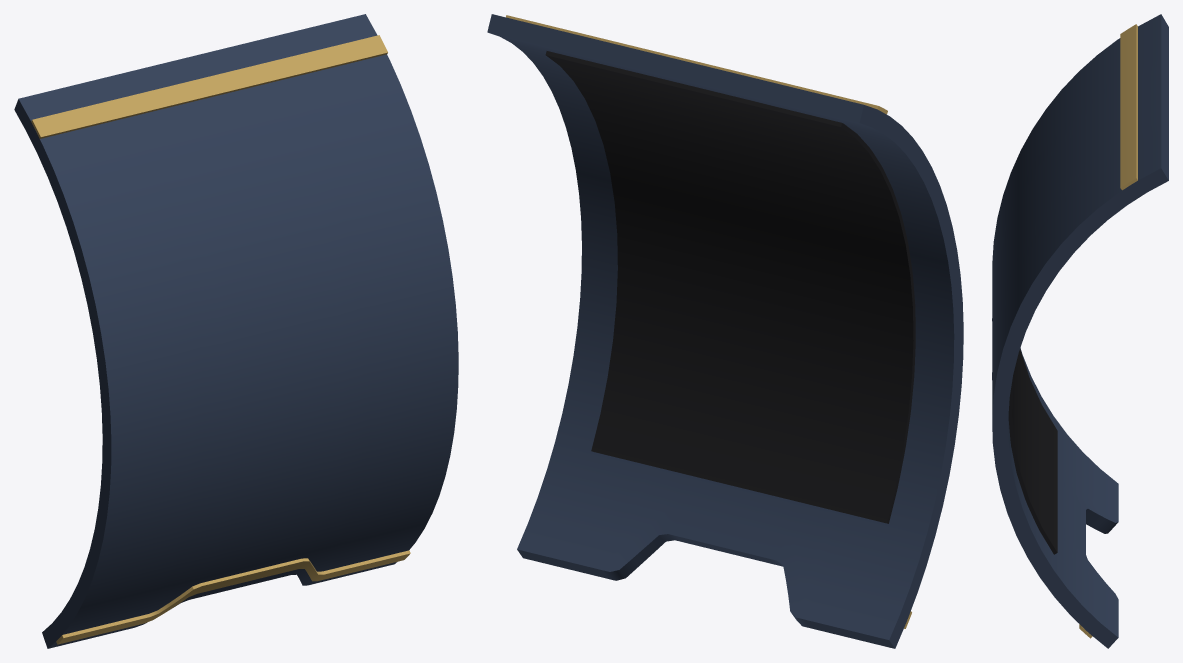
The model's file is HubMech_Hatch.gltf.
3 renders of one model, left to right at view 1: azimuth 30°, elevation 25°; view 2: azimuth 150°, elevation 25°; view 3: azimuth 270°, elevation 25°, orthographic. The views are drawn at different scales.
Parts seen in each view (by area): view 1: HubMech_Hatch; view 2: HubMech_Hatch; view 3: HubMech_Hatch.
Part boxes in pixels (bbox=[...]): HubMech_Hatch: bbox=[14, 14, 458, 648]; HubMech_Hatch: bbox=[487, 14, 963, 648]; HubMech_Hatch: bbox=[992, 14, 1168, 648].
Size of the model in its own units: 1.36 by 1.98 by 0.6592.
